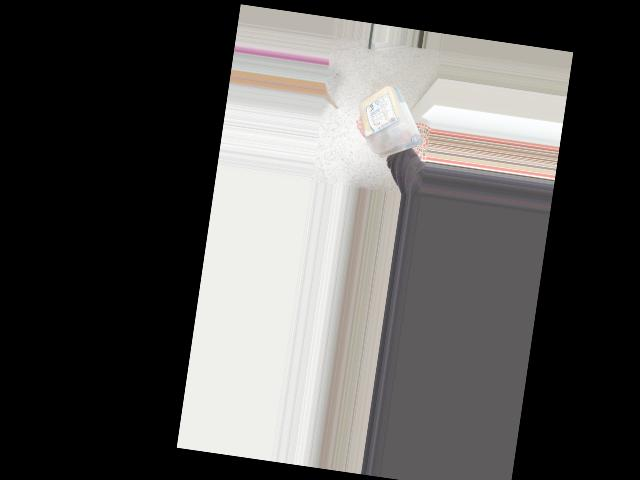cheese: (351, 77, 425, 161)
